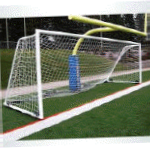goals: (3, 28, 145, 118)
